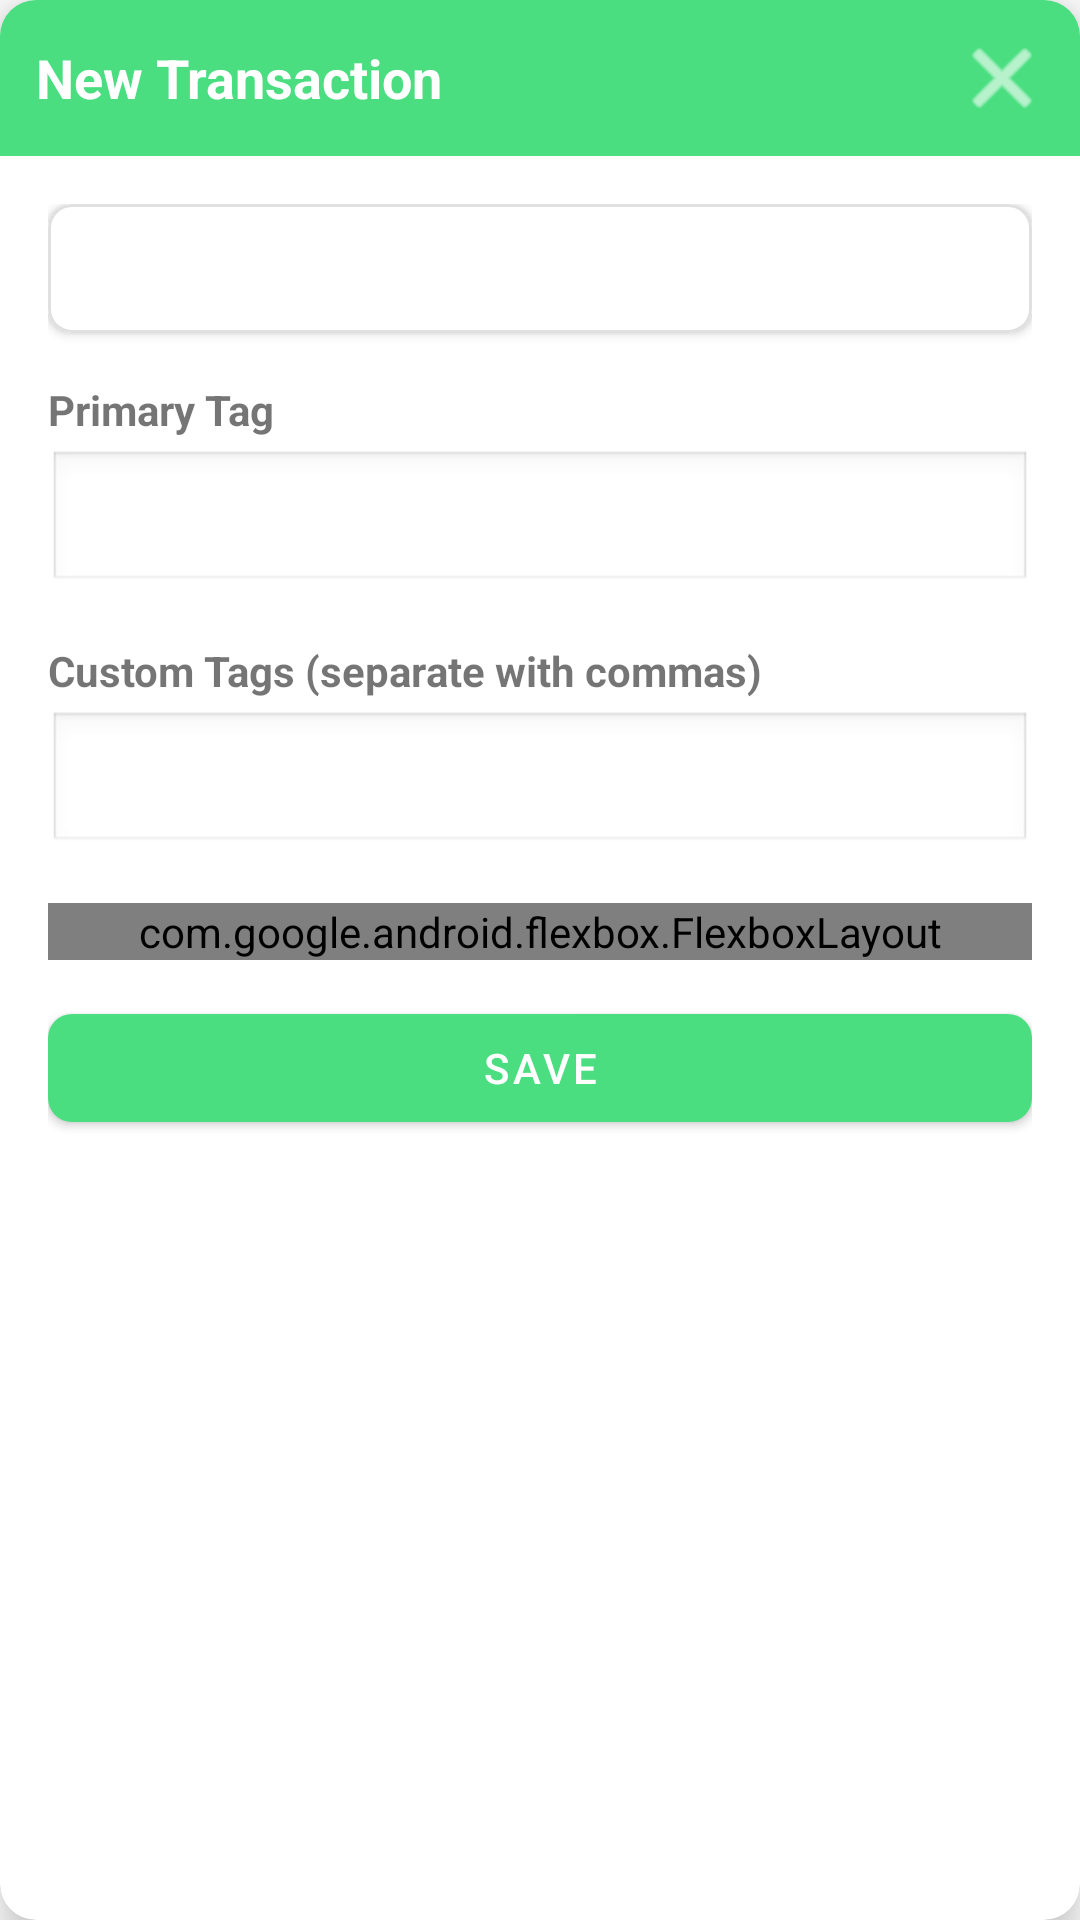

Icons on this 1080*1920 Android screen, each with the point to tap as (x=x, y=y):
Close: (x=1002, y=78)
